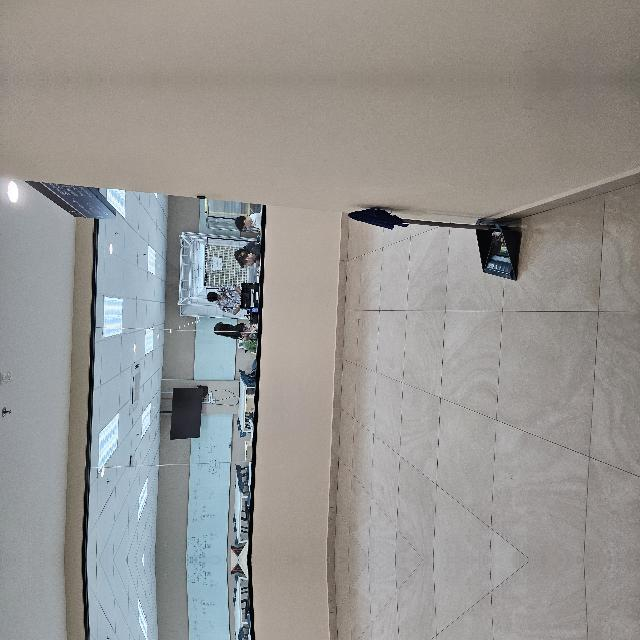obstacle: (277, 426, 351, 604), (277, 516, 351, 640)
